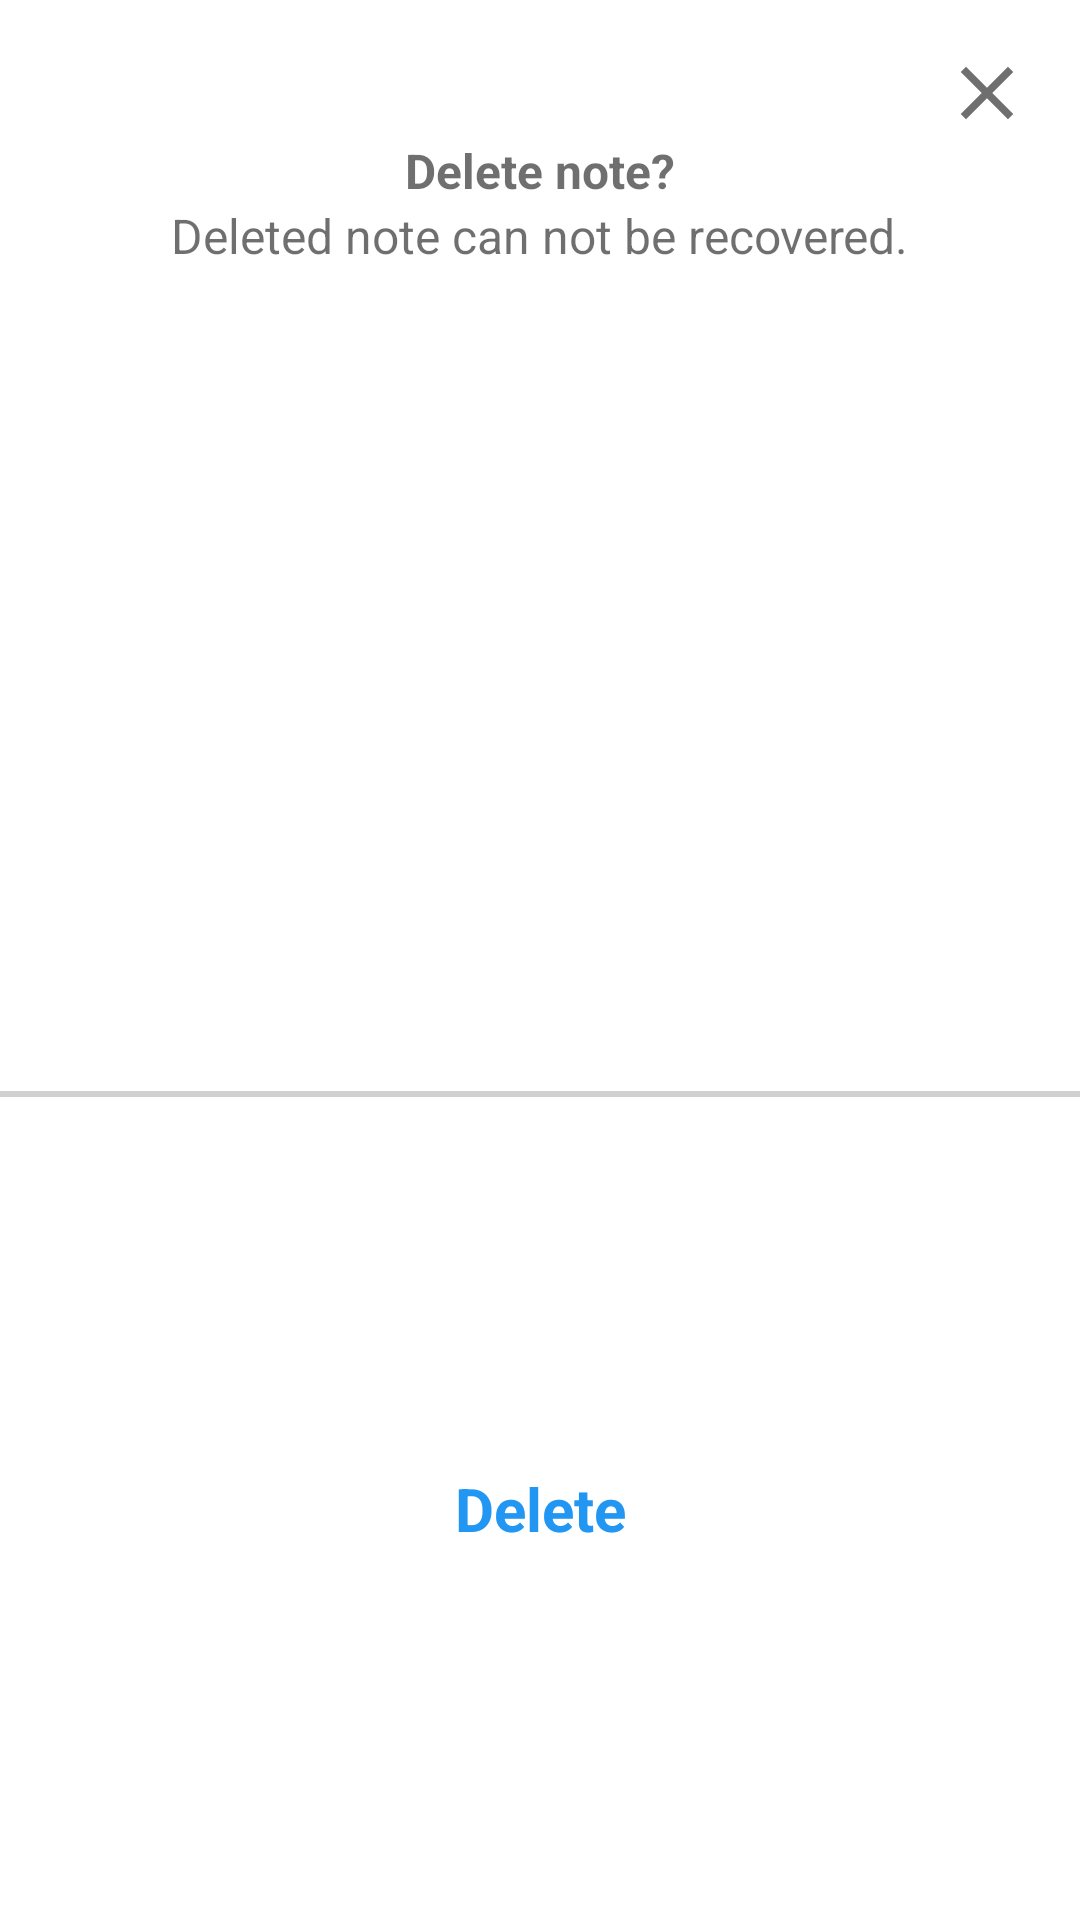

Where to tap for icons on this 1080x1920 app screen, as (x,y):
close: (987,93)
